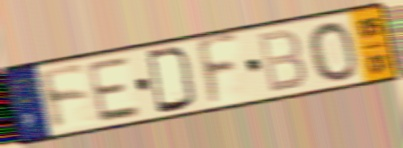B: (255, 27, 309, 96)
D: (144, 46, 198, 116)
E: (83, 54, 144, 126)
F: (36, 62, 92, 134), (195, 31, 241, 112)
O: (306, 20, 360, 83)
